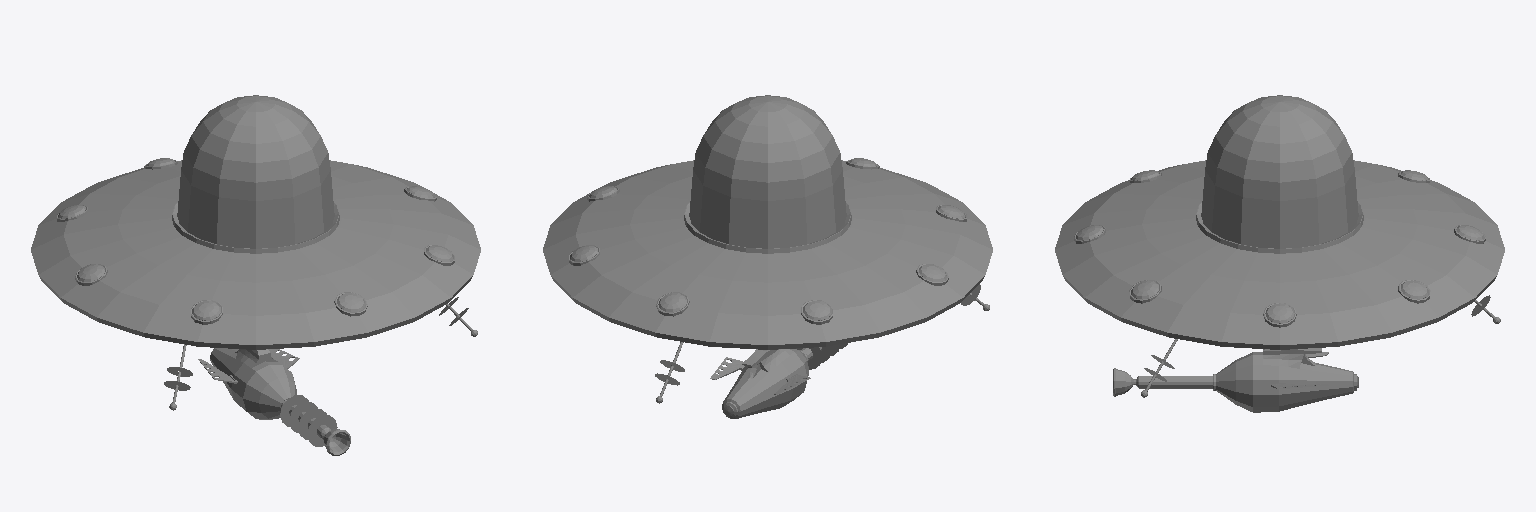
File: ufo_test.obj
The picture shows the model from 3 angles: view 1: azimuth 30°, elevation 25°; view 2: azimuth 150°, elevation 25°; view 3: azimuth 270°, elevation 25°; orthographic projection.
Parts seen in each view (by area): view 1: ufo_test.obj, bubble; view 2: ufo_test.obj, bubble; view 3: ufo_test.obj, bubble.
Part boxes in pixels (bbox=[...]): ufo_test.obj: bbox=[31, 158, 480, 455]; bubble: bbox=[177, 95, 334, 248]; ufo_test.obj: bbox=[543, 158, 992, 418]; bubble: bbox=[689, 95, 846, 248]; ufo_test.obj: bbox=[1055, 160, 1504, 412]; bubble: bbox=[1201, 95, 1358, 248].
Bounding box in the file's own units: 2.48 × 1.87 × 2.48.